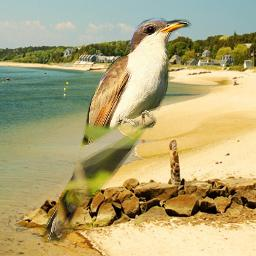Cuckoo: (39, 14, 193, 247)
